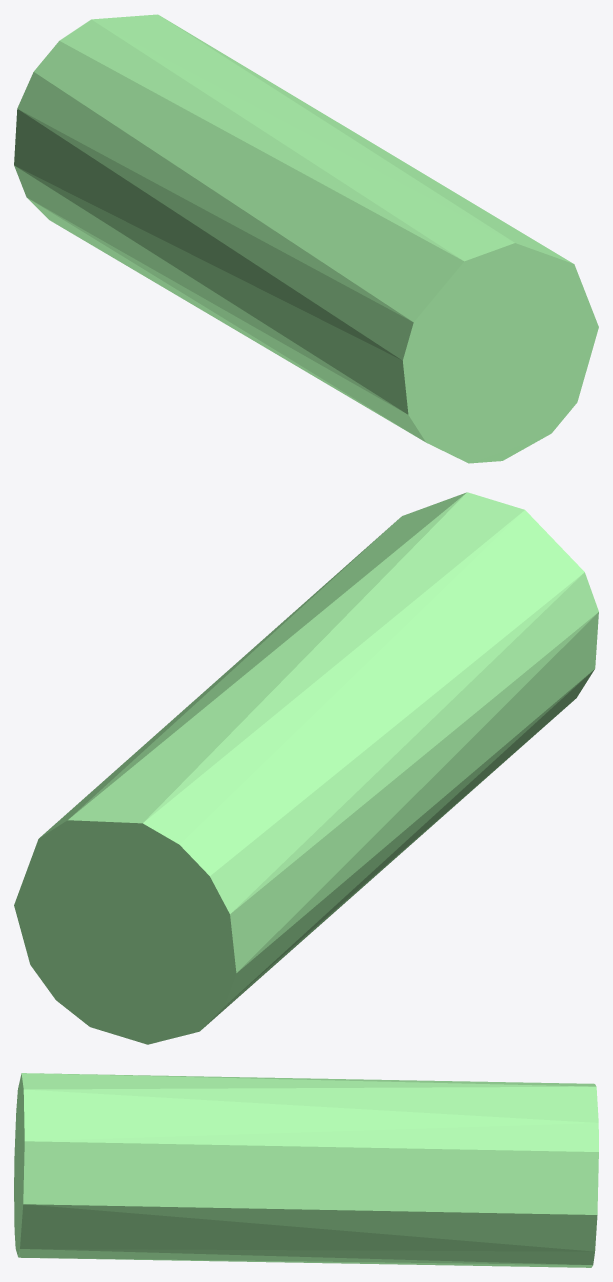
File: dvkr_robot_L4_respondable_ECM_coll_2.dae
3 views of the same model, one above another, from view 1: azimuth 30°, elevation 25°; view 2: azimuth 150°, elevation 25°; view 3: azimuth 270°, elevation 25° (orthographic). The views are drawn at different scales.
Visible parts, largest first — view 1: Node_0000023514CDA040; view 2: Node_0000023514CDA040; view 3: Node_0000023514CDA040.
Boxes of the visible parts, bbox=[...] form: Node_0000023514CDA040: bbox=[14, 14, 598, 463]; Node_0000023514CDA040: bbox=[14, 492, 598, 1044]; Node_0000023514CDA040: bbox=[14, 1073, 598, 1267].
Size of the model in its own units: 0.0449 by 0.0444 by 0.1266.
